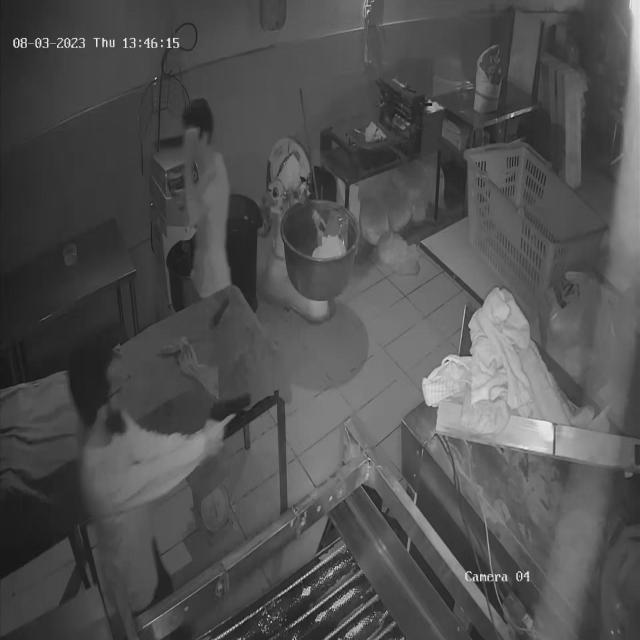Gun: (203, 390, 259, 436)
Knife: (154, 128, 212, 158)
